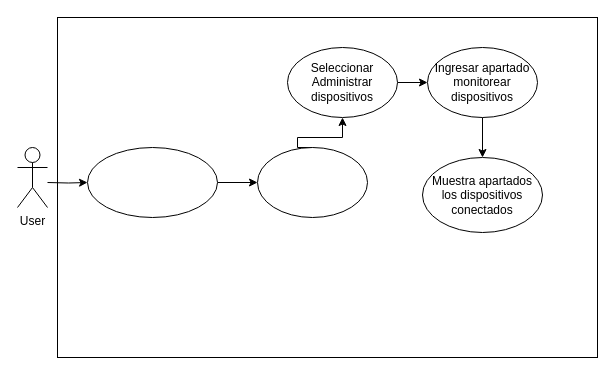
The diagram is 615 pixels wide and 375 high, and some of its shapes have lost their labels. The shapes that lost their labels are listed below. From the top down, each one's centre as x and y in pixels, then its label:
At point (152, 182): "Iniciar sesión".
At point (312, 182): "Despliegue menú".
